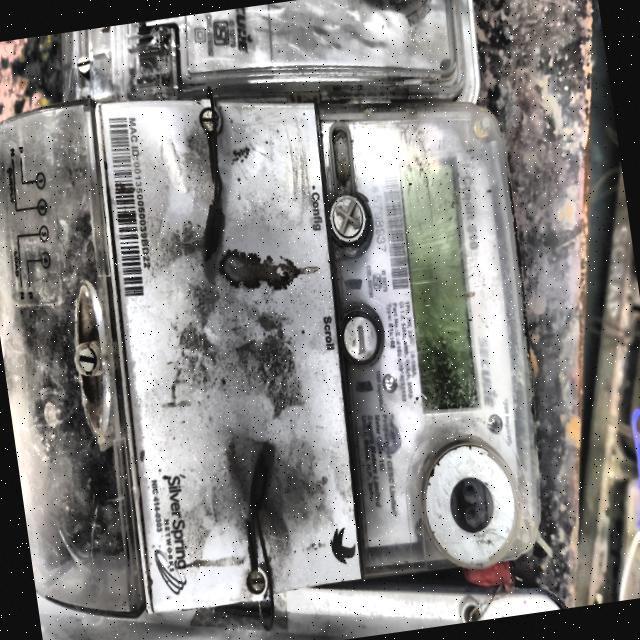Digital: (0, 47, 553, 638)
Reading: (396, 163, 474, 410)
Serial No.: (368, 195, 389, 258)
